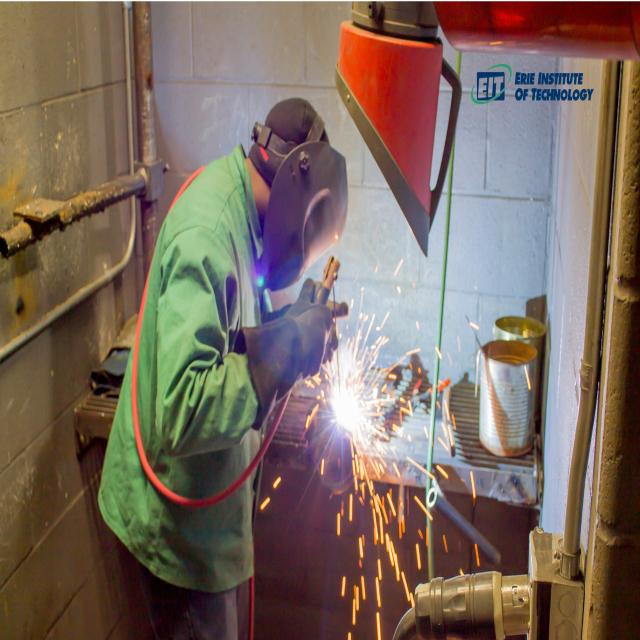welding: (337, 388, 364, 433)
